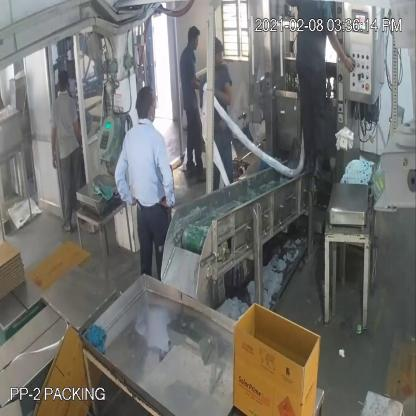no_glove: (323, 16, 364, 80), (151, 144, 179, 215), (109, 146, 137, 208), (40, 116, 61, 173), (206, 77, 235, 108)
